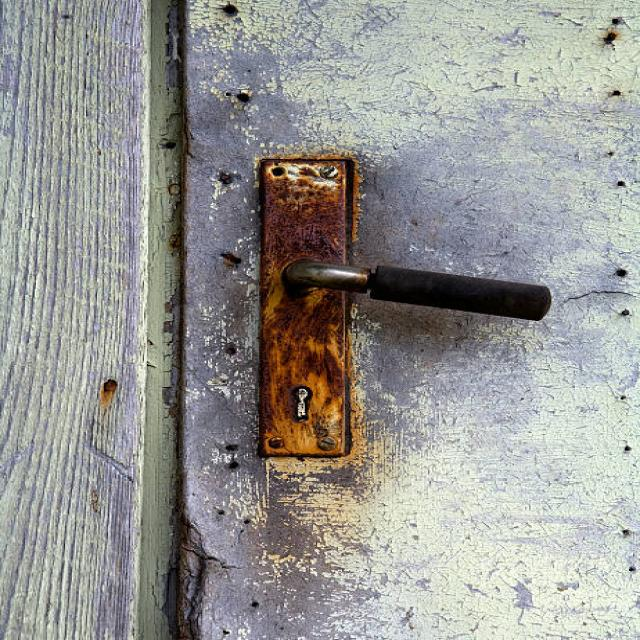door-handle: (285, 261, 550, 320)
